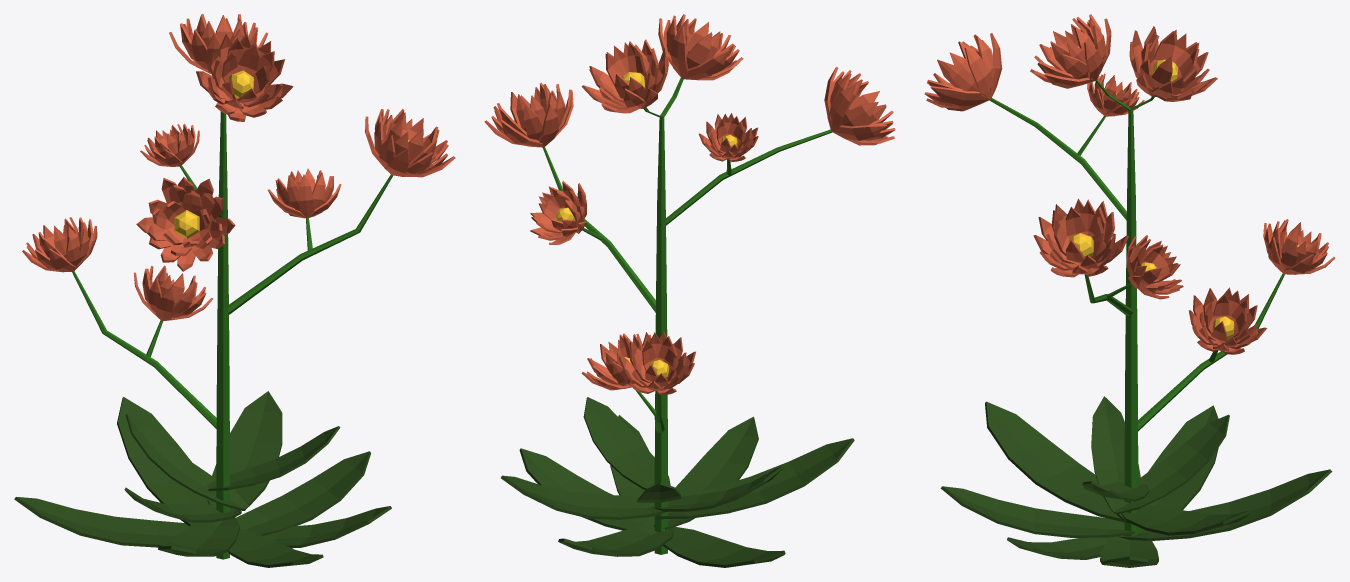
The model's file is Habichtskraut_3.fbx.
3 views of the same model, side by side, from view 1: azimuth 30°, elevation 25°; view 2: azimuth 150°, elevation 25°; view 3: azimuth 270°, elevation 25° (orthographic). The views are drawn at different scales.
Parts seen in each view (by area): view 1: Habichtskraut_3; view 2: Habichtskraut_3; view 3: Habichtskraut_3.
Boxes of the visible parts, bbox=[...] form: Habichtskraut_3: bbox=[14, 14, 455, 567]; Habichtskraut_3: bbox=[484, 14, 895, 567]; Habichtskraut_3: bbox=[924, 14, 1335, 567].
Size of the model in its own units: 132 by 185 by 129.
